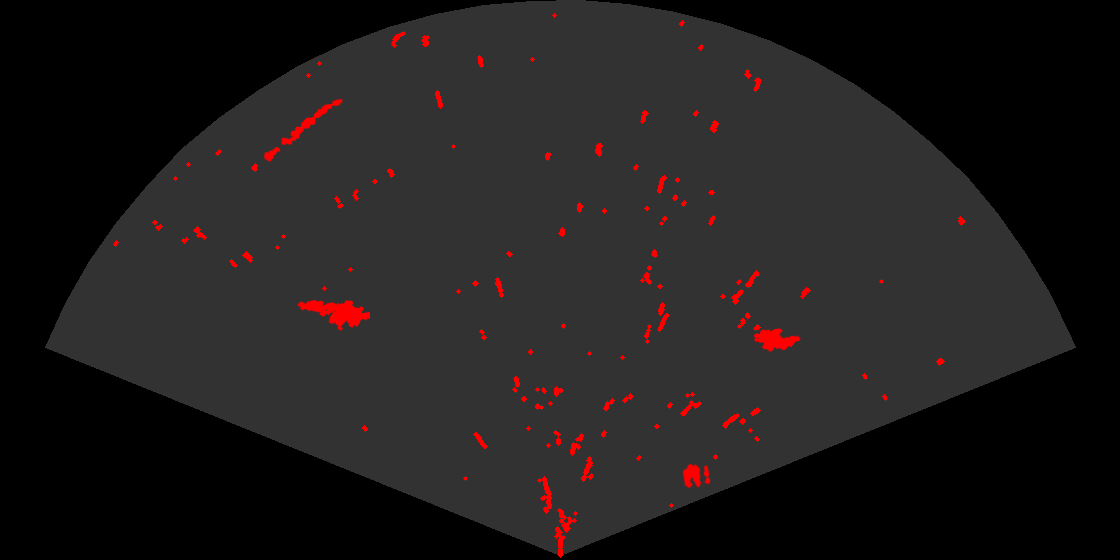AUV: (752, 327, 802, 353)
ball: (681, 463, 712, 490)
chain: (262, 97, 344, 163)
frogman: (296, 298, 370, 333)
